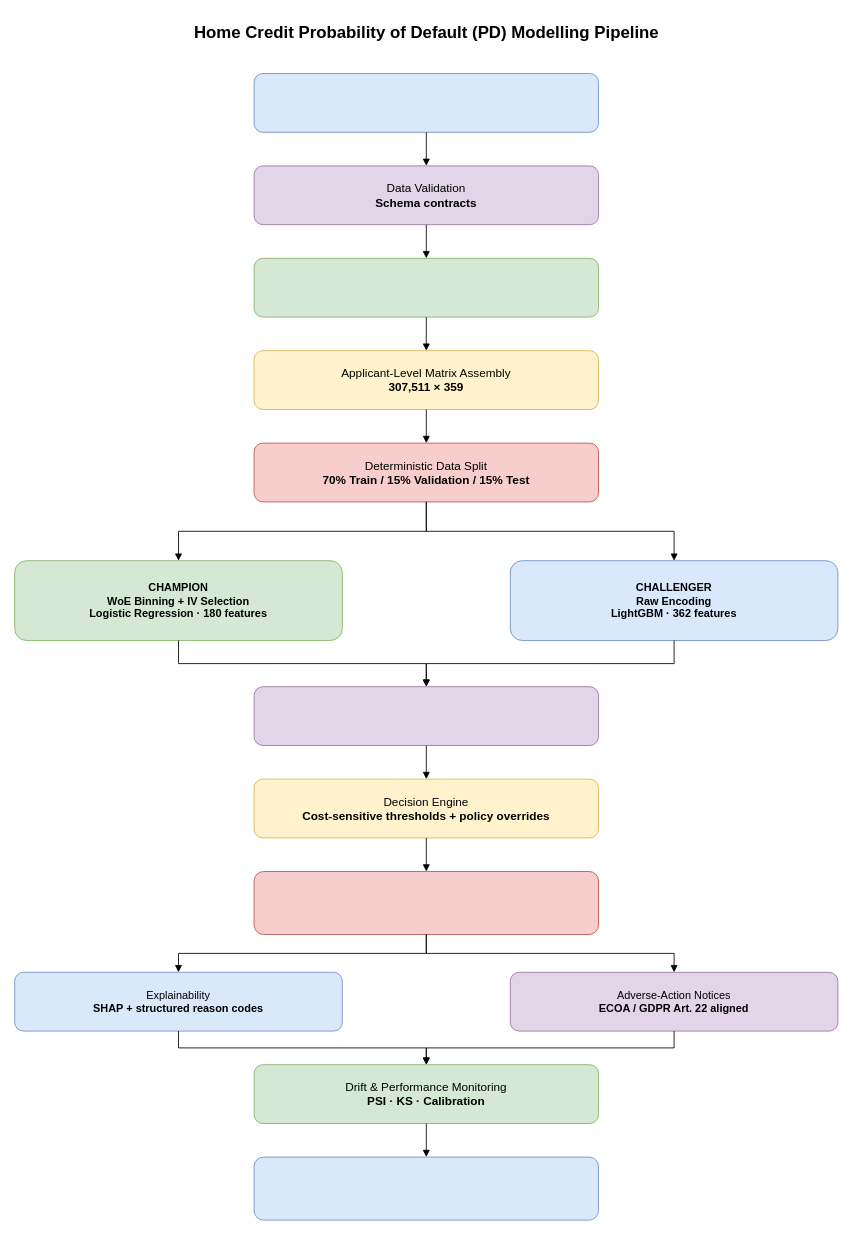
The diagram is 853 pixels wide and 1235 high, and some of its shapes have lost their labels. The centre of each missing label's shape, as x and y in pixels:
Decision Outcome APPROVE / REFER / DECLINE Audit trail: (x=425, y=902)
FastAPI Service Dockerized Production Deployment: (x=425, y=1188)
Post-hoc Calibration Isotonic calibration for challenger: (x=425, y=716)
Raw Home Credit CSVs 8 relational tables: (x=425, y=102)
Relational Aggregation 5 feature families → 237 features: (x=425, y=287)
